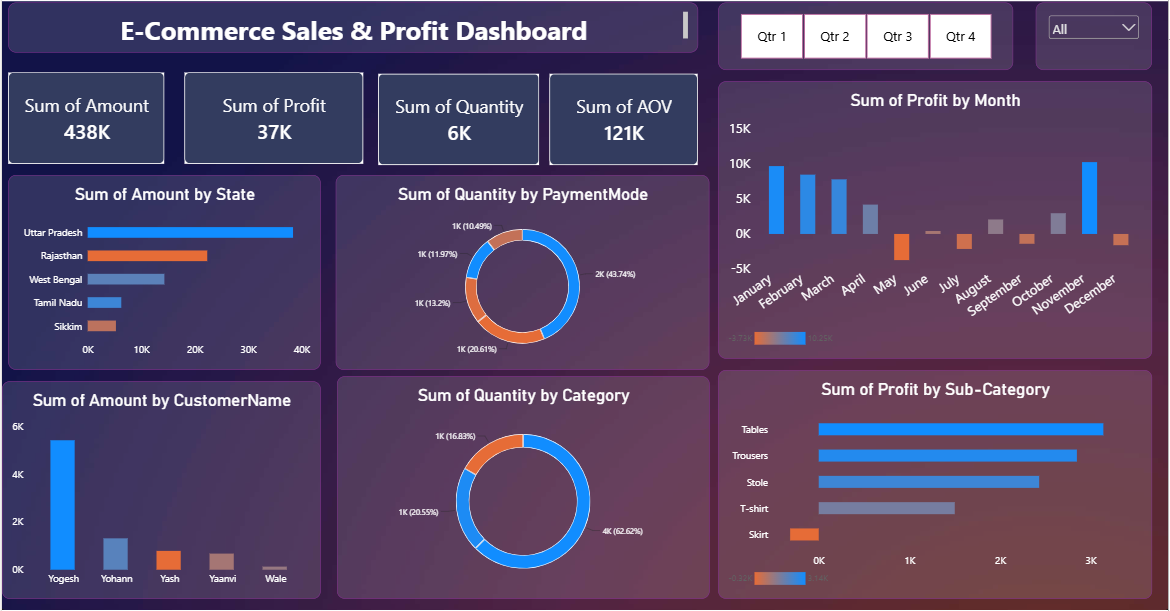

Layout of this report page (visuals, bound fields, positions):
{"tool":"powerbi","page":{"name":"Page 1","canvas":[1920,1080],"ordinal":0},"visuals":[{"type":"columnChart","fields":{"Category":["Orders.Order_Date.Variation.Date Hierarchy.Month"],"Y":["Sum(Details (1).Profit)"]},"box":[1179.4,166.7,714.2,456.9],"z":0},{"type":"barChart","fields":{"Category":["Details (1).Sub-Category"],"Y":["Sum(Details (1).Profit)"]},"box":[1179.4,642.2,714.2,376.7],"z":1000},{"type":"donutChart","fields":{"Category":["Details (1).Category"],"Y":["Sum(Details (1).Quantity)"]},"box":[551.6,652.5,613.4,366.4],"z":2000},{"type":"donutChart","fields":{"Category":["Details (1).PaymentMode"],"Y":["Sum(Details (1).Quantity)"]},"box":[549.6,321.1,615.4,321.1],"z":3000},{"type":"cardVisual","fields":{"Data":["Sum(Details (1).Profit)"]},"box":[300.5,152.3,294.3,150.3],"z":4000},{"type":"cardVisual","fields":{"Data":["Sum(Details (1).Quantity)"]},"box":[619.6,154.4,265.5,150.3],"z":5000},{"type":"cardVisual","fields":{"Data":["Sum(Details (1).AOV)"]},"box":[901.5,154.4,244.9,150.3],"z":6000},{"type":"barChart","fields":{"Category":["Orders.State"],"Y":["Sum(Details (1).Amount)"]},"box":[10.3,321.1,514.6,321.1],"z":7000},{"type":"columnChart","fields":{"Category":["Orders.CustomerName"],"Y":["Sum(Details (1).Amount)"]},"box":[0,660.7,524.9,358.1],"z":8000},{"type":"slicer","fields":{"Values":["Orders.Order_Date.Variation.Date Hierarchy.Quarter"]},"box":[1179.4,37,485.8,111.1],"z":9000},{"type":"slicer","fields":{"Values":["Orders.State"]},"box":[1702.2,37,191.4,111.1],"z":10000},{"type":"textbox","box":[10.3,37,1136.2,82.3],"z":11000},{"type":"cardVisual","fields":{"Data":["Sum(Details (1).Amount)"]},"box":[10.3,152.3,257.3,150.3],"z":12000}]}

Visuals, with their boxes on the page's 1920x1080 design canvas (x1, y1, x2, y2). These are canvas units, not pixel positions in the 1170x611 screenshot, which may show the page scaled, cropped or inside an application window:
columnChart - Orders.Order_Date.Variation.Date Hierarchy.Month x Sum(Details (1).Profit): 1179,167,1894,624
barChart - Details (1).Sub-Category x Sum(Details (1).Profit): 1179,642,1894,1019
donutChart - Details (1).Category x Sum(Details (1).Quantity): 552,652,1165,1019
donutChart - Details (1).PaymentMode x Sum(Details (1).Quantity): 550,321,1165,642
cardVisual - Sum(Details (1).Profit): 300,152,595,303
cardVisual - Sum(Details (1).Quantity): 620,154,885,305
cardVisual - Sum(Details (1).AOV): 902,154,1146,305
barChart - Orders.State x Sum(Details (1).Amount): 10,321,525,642
columnChart - Orders.CustomerName x Sum(Details (1).Amount): 0,661,525,1019
slicer - Orders.Order_Date.Variation.Date Hierarchy.Quarter: 1179,37,1665,148
slicer - Orders.State: 1702,37,1894,148
textbox: 10,37,1146,119
cardVisual - Sum(Details (1).Amount): 10,152,268,303
